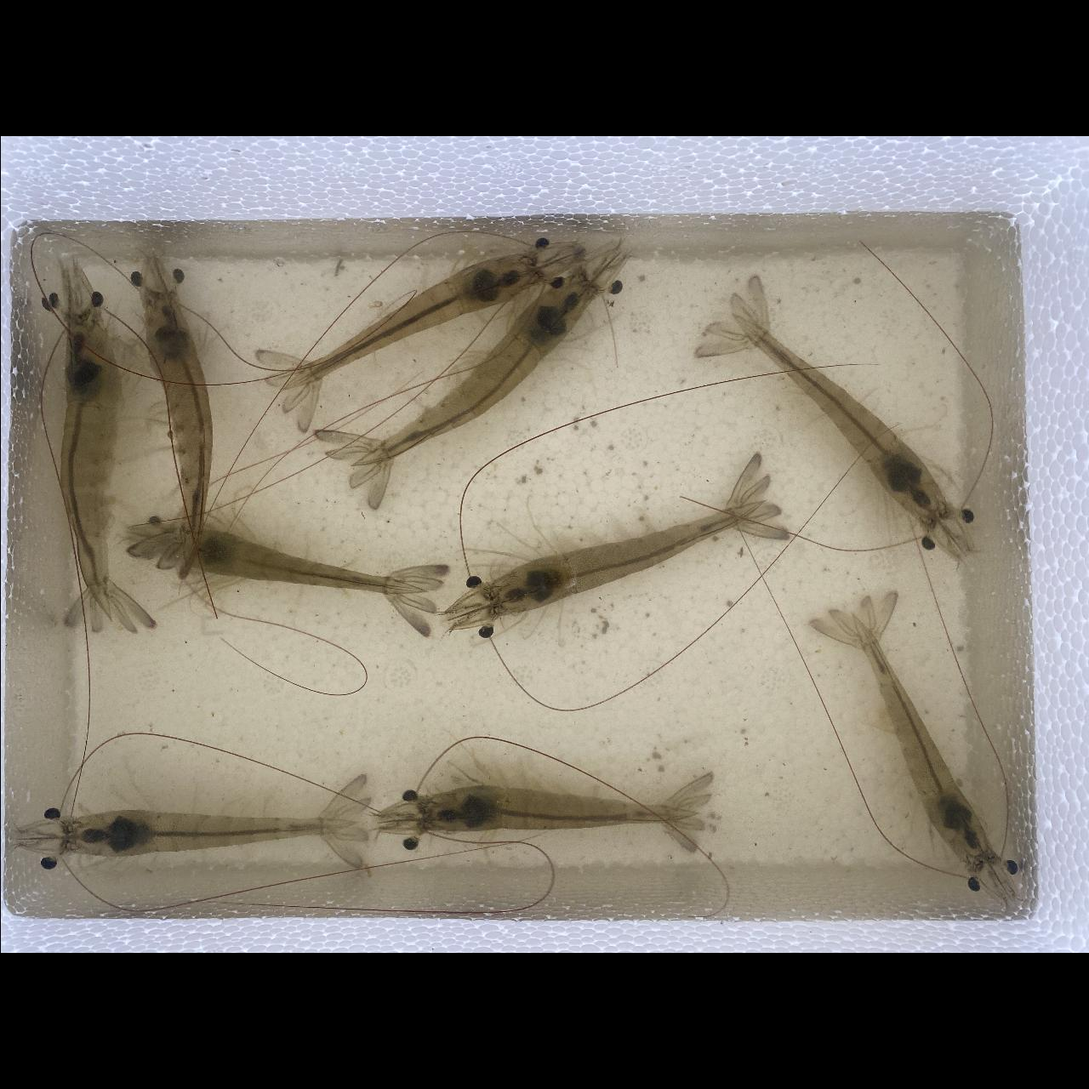top_shrimp: (359, 272, 590, 466), (735, 313, 946, 521), (288, 254, 536, 386), (856, 619, 990, 863), (490, 505, 755, 614), (145, 291, 209, 560), (61, 315, 119, 611), (185, 529, 415, 594), (68, 812, 351, 856), (424, 786, 693, 830)
